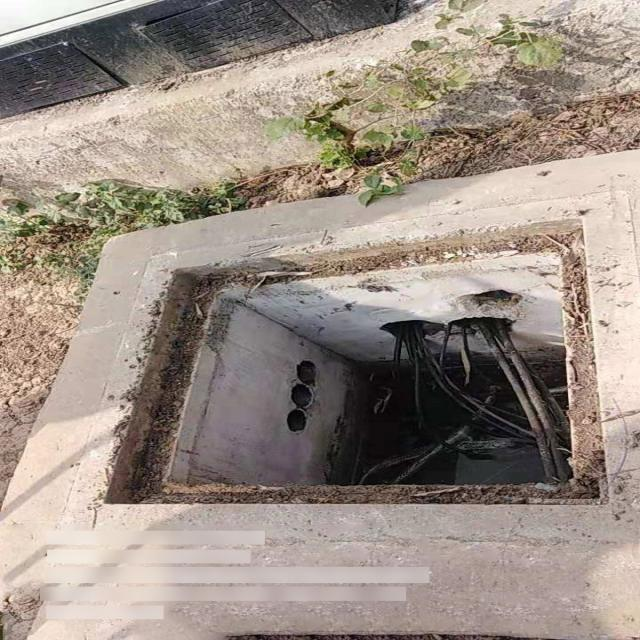Faulty: (52, 190, 640, 542)
